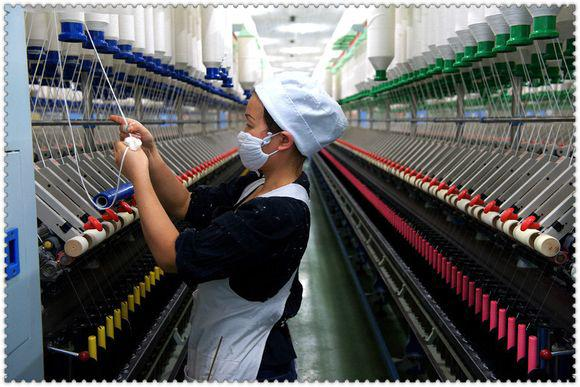OK: (232, 112, 293, 173)
